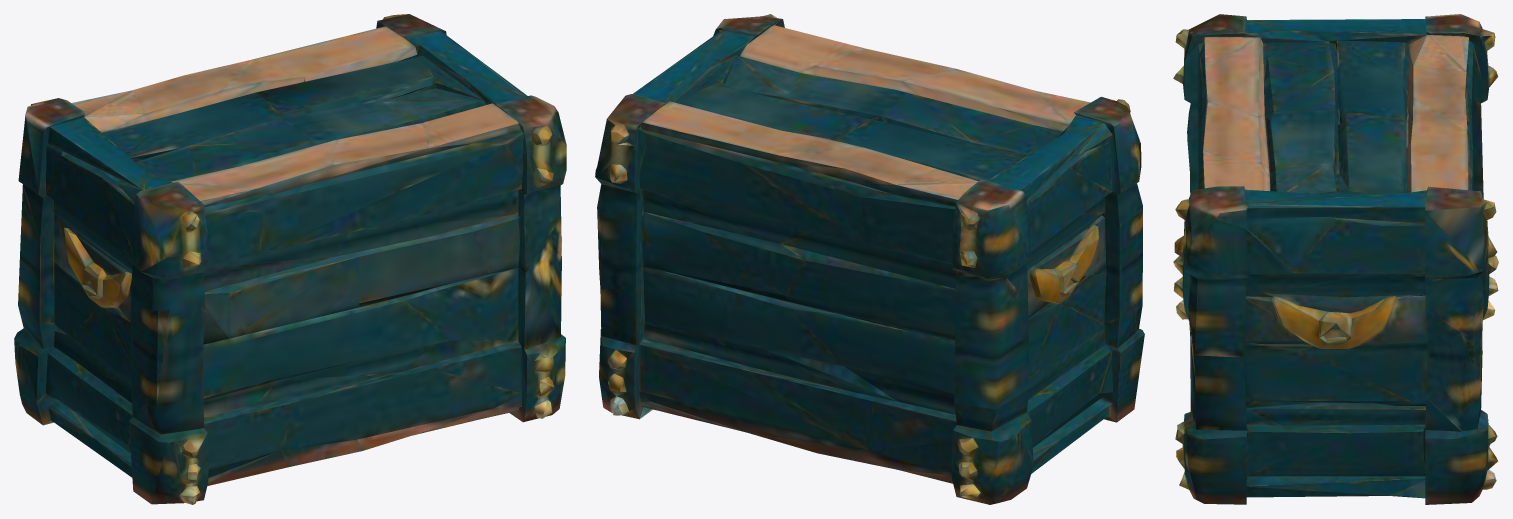
The model's file is crate-teal.lod1.glb.
3 renders of one model, left to right at view 1: azimuth 30°, elevation 25°; view 2: azimuth 150°, elevation 25°; view 3: azimuth 270°, elevation 25°, orthographic.
Size of the model in its own units: 0.7325 by 0.5 by 0.4961.
Materials: 1 (1 with a texture image).
